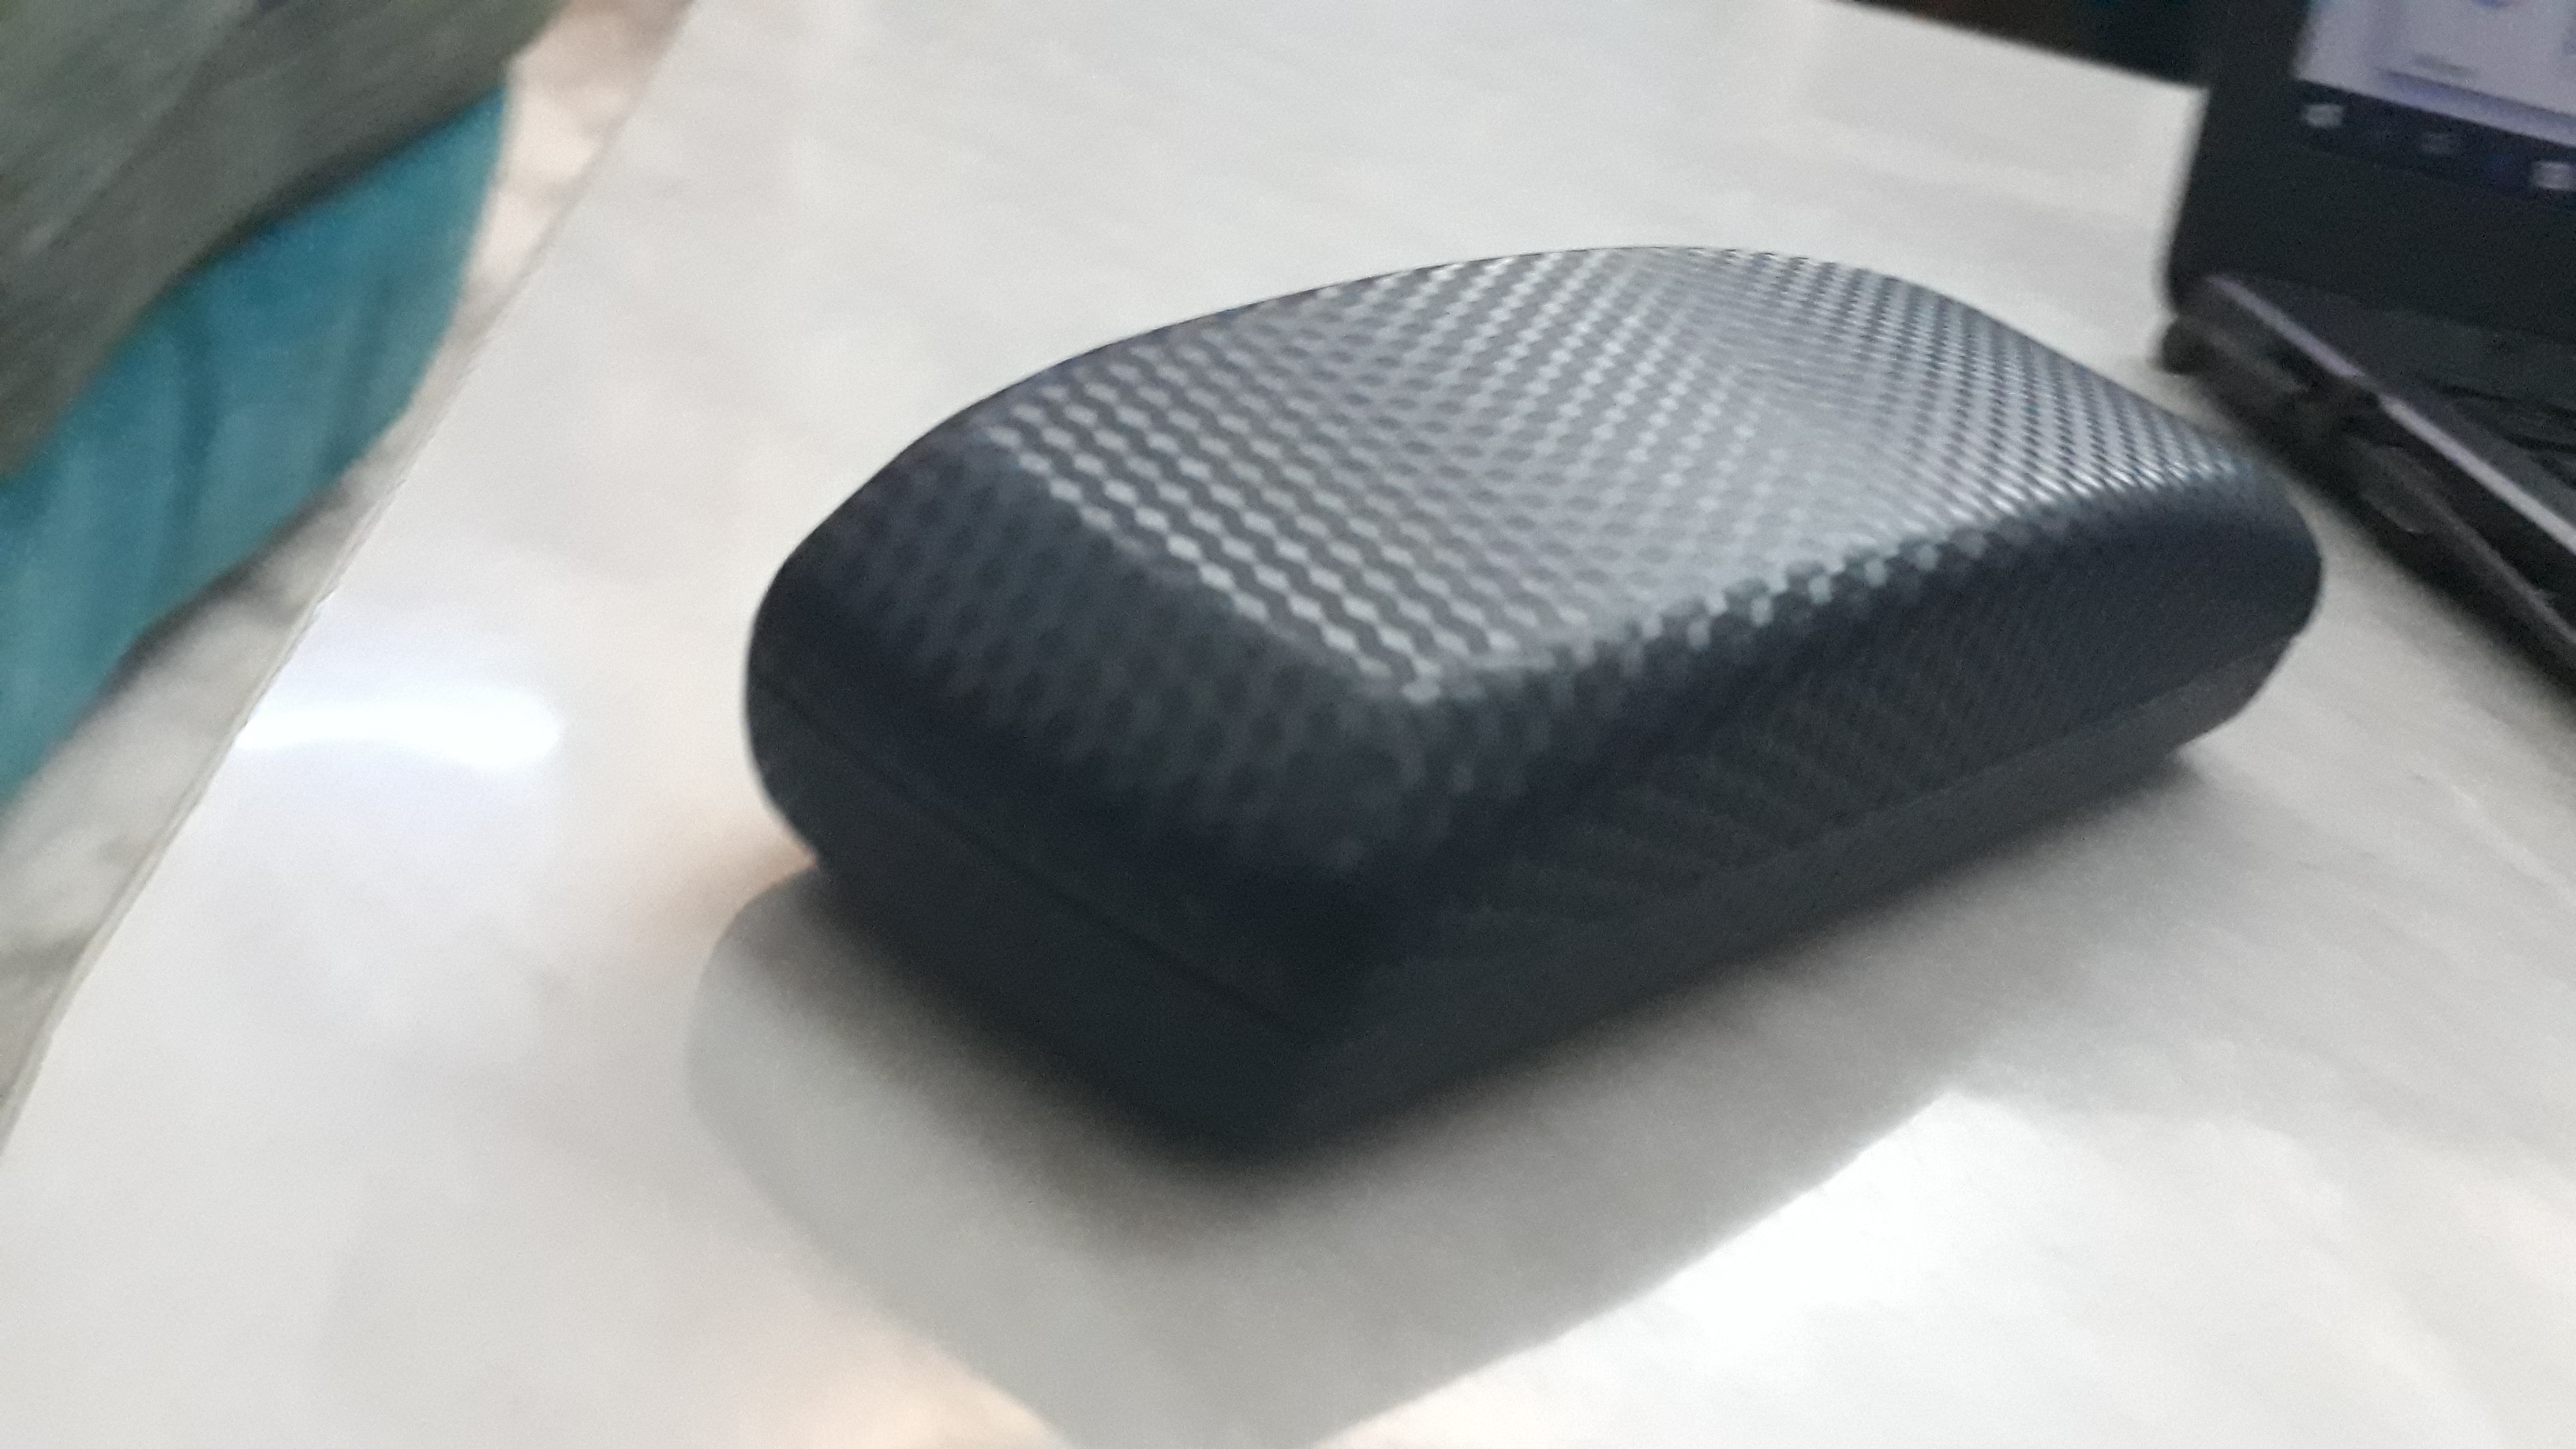nadar: (725, 221, 2332, 1152)
